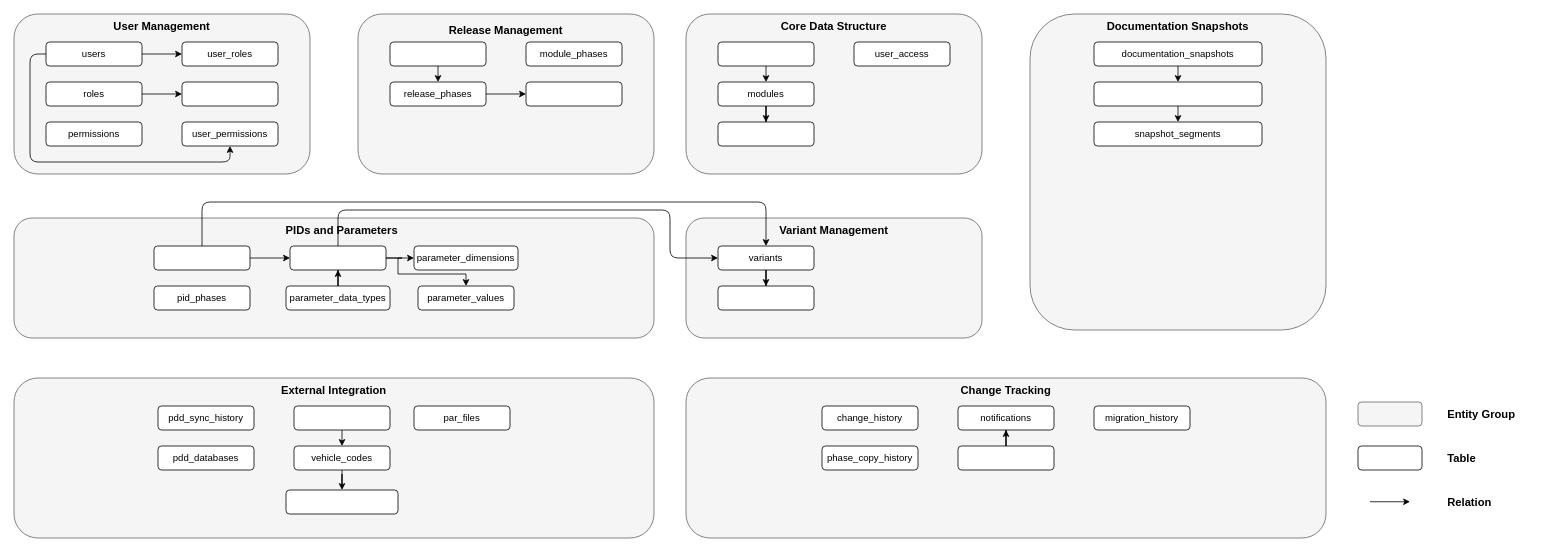
Some shapes in this 1548 by 552 pixel diagram are drawn without their labels. The centre of each missing label's shape, as x and y in pixels:
"ecu_modules" goes at [765,133].
"ecu_phases" goes at [573,93].
"ecus" goes at [765,53].
"parameters" goes at [337,257].
"pids" goes at [201,257].
"releases" goes at [437,53].
"role_permissions" goes at [229,93].
"segments" goes at [765,297].
"snapshot_variants" goes at [1177,93].
"user_notifications" goes at [1005,457].
"vcd_vehicles" goes at [341,417].
"vehicle_code_mappings" goes at [341,501].
